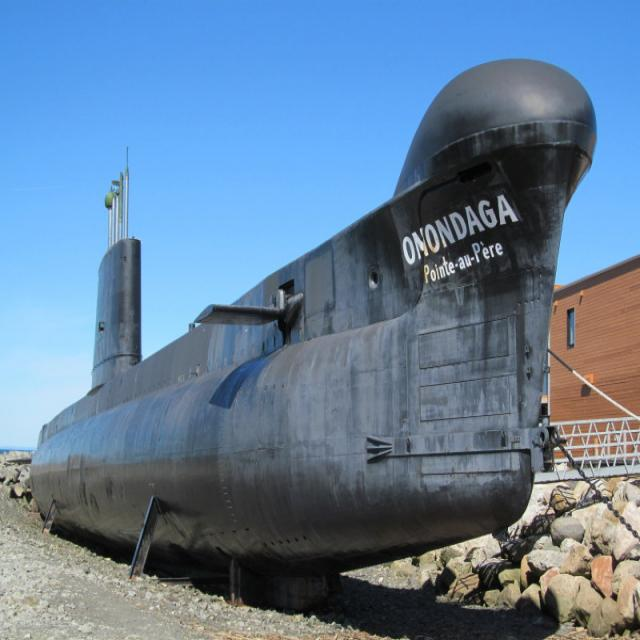submarine: (32, 58, 598, 571)
